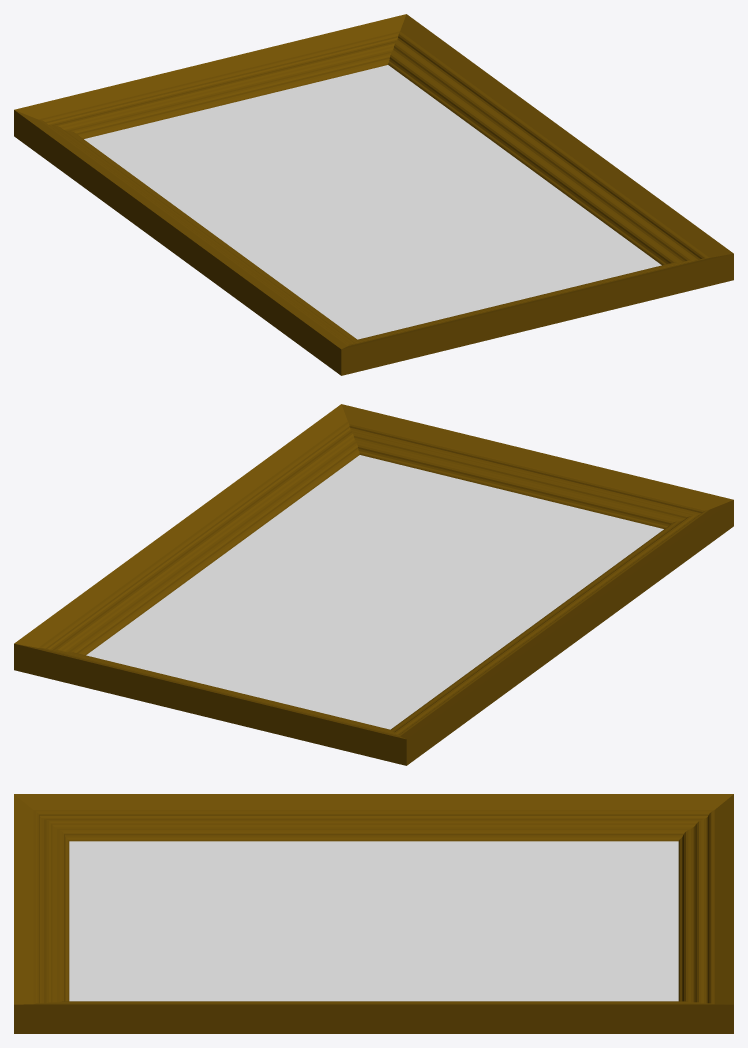
Rendered from frame-27x18.fbx.
3 renders of one model, top to bottom at view 1: azimuth 30°, elevation 25°; view 2: azimuth 150°, elevation 25°; view 3: azimuth 270°, elevation 25°, orthographic. The views are drawn at different scales.
Visible parts, largest first — view 1: Cube; view 2: Cube; view 3: Cube.
Part boxes in pixels (left/top/right/bottom): Cube: left=14, top=14, right=733, bottom=375; Cube: left=14, top=404, right=733, bottom=765; Cube: left=14, top=794, right=733, bottom=1033.
Bounding box in the file's own units: 18 × 1.16 × 26.
